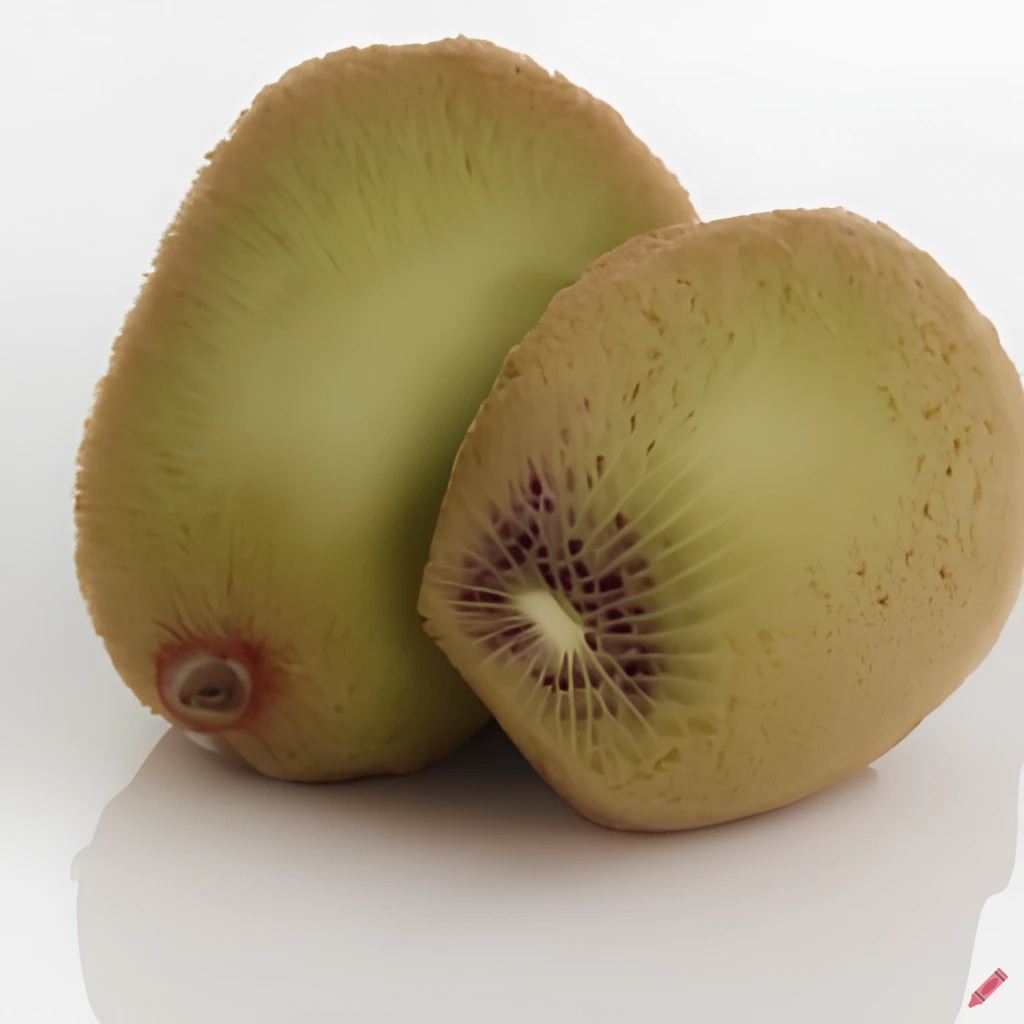Kiwi: (412, 215, 1024, 832)
